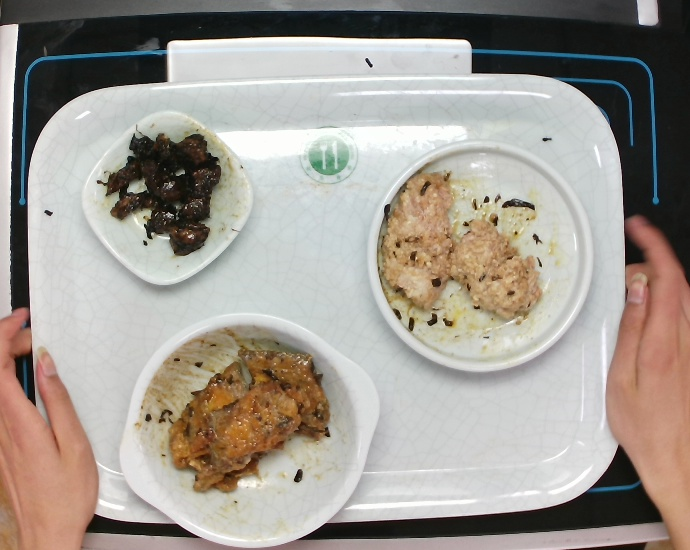JYsf-Shuang_Er_Wan: (117, 308, 380, 550)
JYsf-Si_Fang_Die: (79, 109, 256, 285)
JYsf-Xiao_Yuan_Pan: (364, 137, 600, 375)
